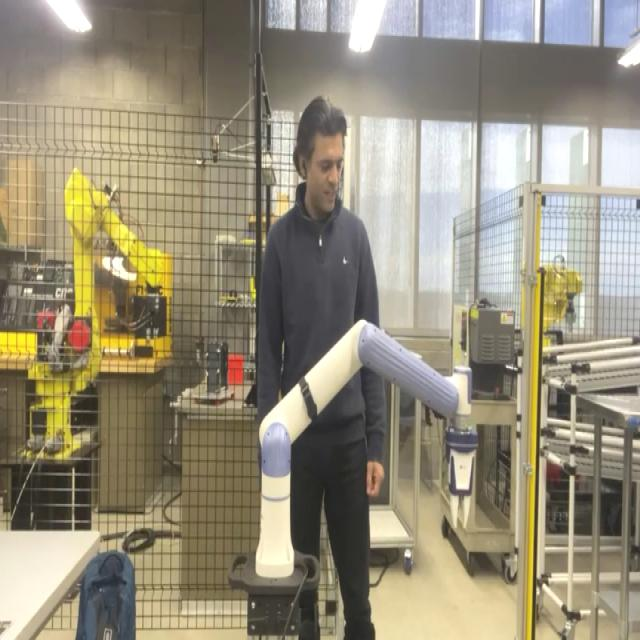robot: (227, 316, 472, 637)
